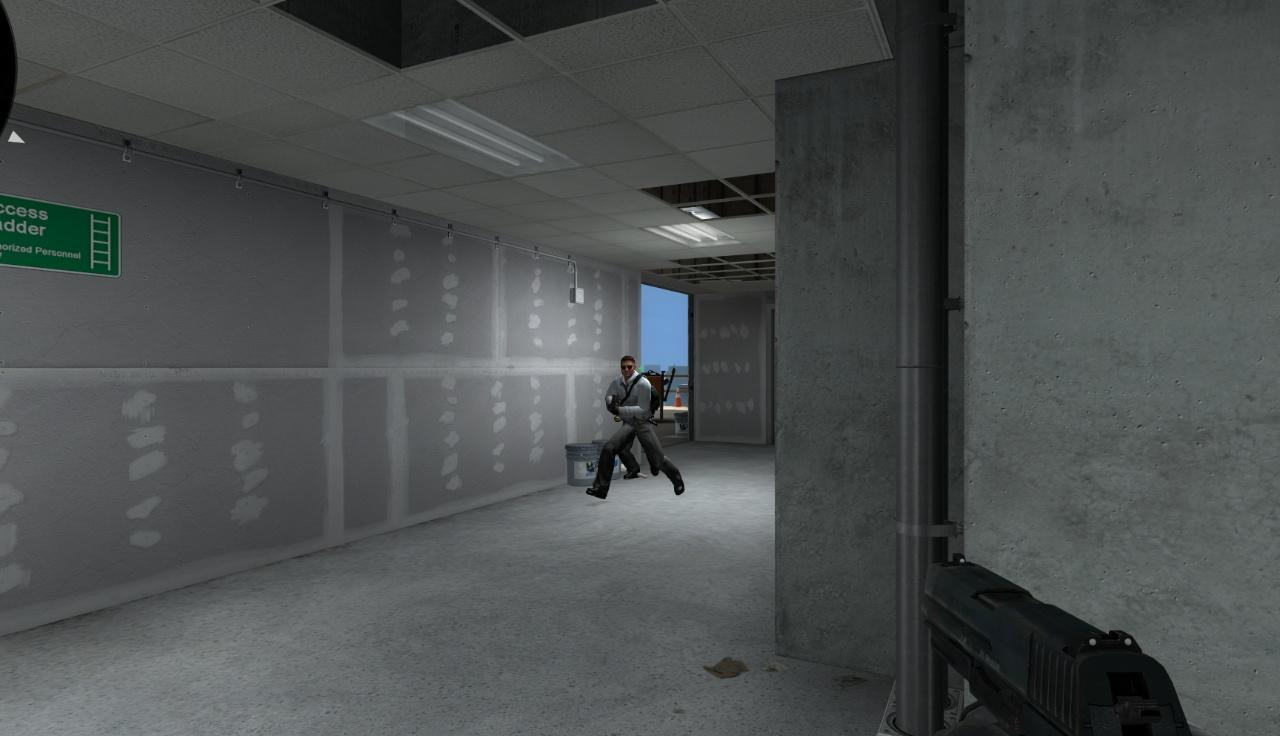pistol: (919, 553, 1198, 736)
tt: (593, 355, 682, 496)
tthead: (619, 356, 636, 378)
